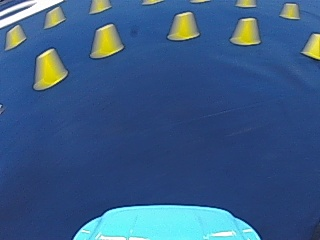cone: (33, 47, 68, 90), (90, 22, 123, 58), (167, 11, 199, 40), (230, 17, 261, 45), (301, 32, 319, 59), (6, 24, 25, 49), (44, 6, 64, 28), (280, 2, 299, 19), (91, 0, 108, 13)
